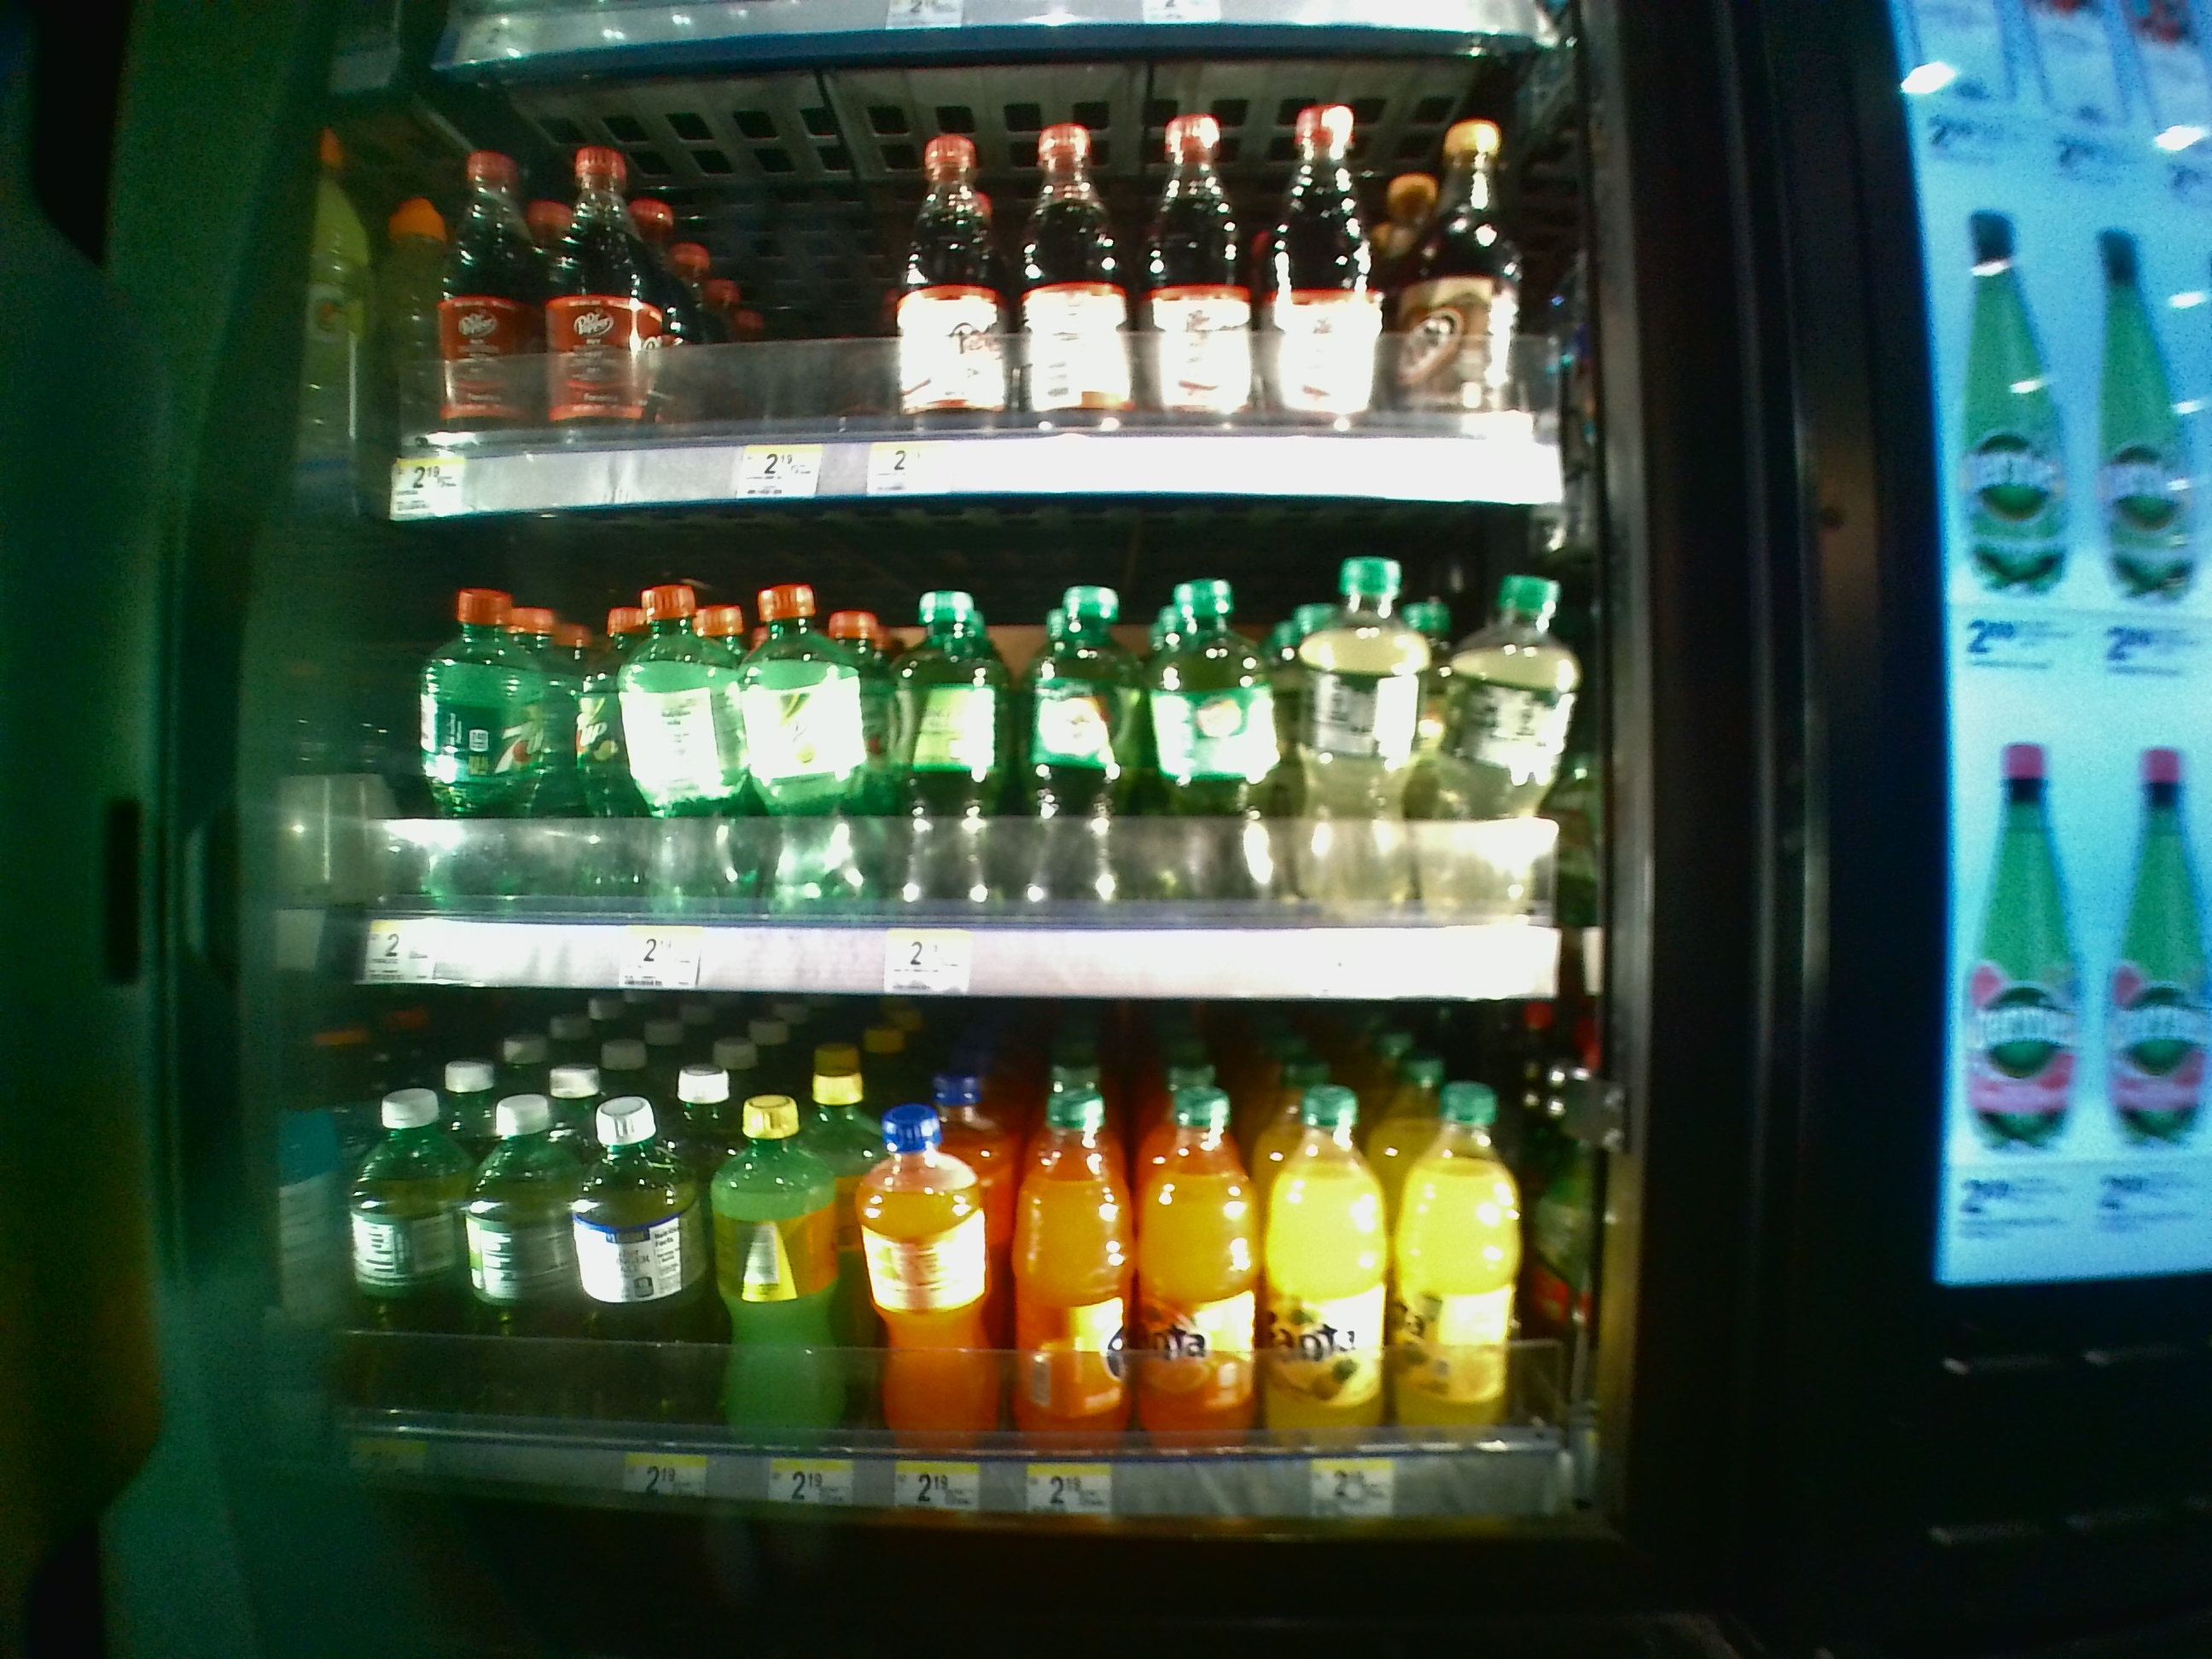Shelf: (324, 1012, 1606, 1535), (331, 516, 1595, 1012)
